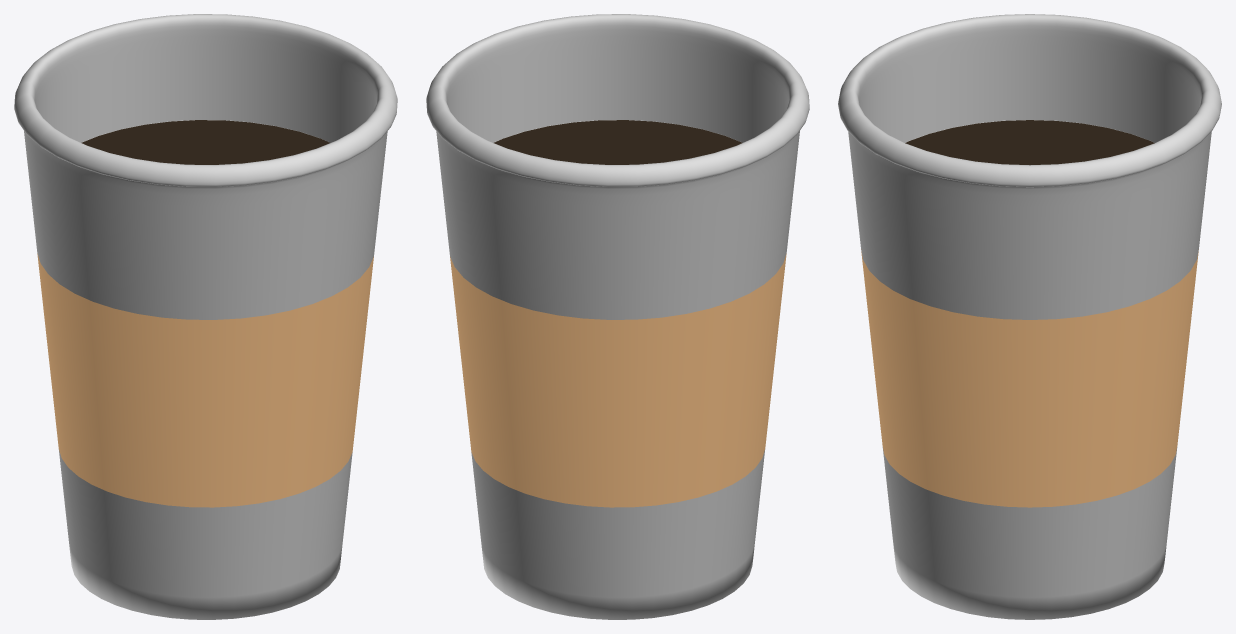
Rendered from coffee_cup 1.fbx.
3 renders of one model, left to right at view 1: azimuth 30°, elevation 25°; view 2: azimuth 150°, elevation 25°; view 3: azimuth 270°, elevation 25°, orthographic.
Visible parts, largest first — view 1: Cylinder; view 2: Cylinder; view 3: Cylinder.
Boxes of the visible parts, <box> form: Cylinder: <box>14,14,397,619</box>; Cylinder: <box>426,14,809,619</box>; Cylinder: <box>838,14,1221,619</box>.
Size of the model in its own units: 193 by 263 by 194.
